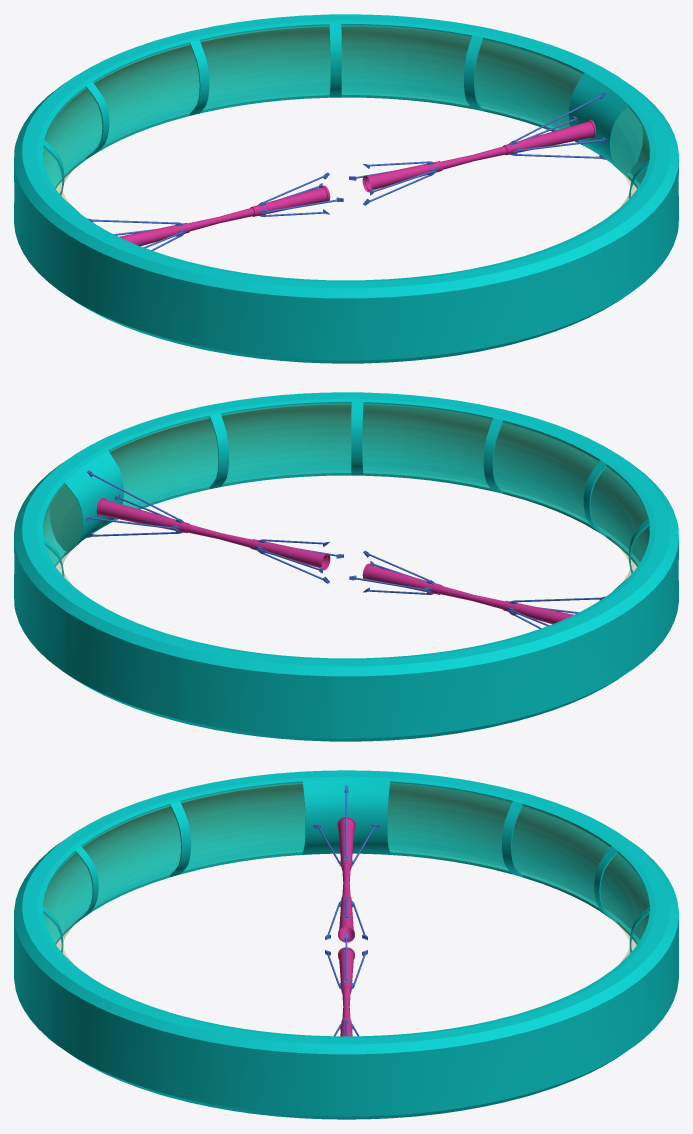
Rendered from station_ring_2-2k.dae.
3 renders of one model, top to bottom at view 1: azimuth 30°, elevation 25°; view 2: azimuth 150°, elevation 25°; view 3: azimuth 270°, elevation 25°, orthographic.
Visible parts, largest first — view 1: Cube_001, Cube_002, spoke, strut_proced_000, strut_proced_015; view 2: Cube_001, Cube_002, spoke, strut_proced_000, strut_proced_015; view 3: Cube_001, Cube_002, spoke, strut_proced_000.
Part boxes in pixels (box(x1,y1,x2,y2)): Cube_001: box(14, 14, 678, 363); Cube_002: box(43, 26, 649, 204); spoke: box(119, 120, 596, 246); strut_proced_000: box(87, 92, 606, 248); strut_proced_015: box(114, 116, 605, 250); Cube_001: box(14, 392, 678, 741); Cube_002: box(43, 404, 649, 582); spoke: box(96, 498, 573, 624); strut_proced_000: box(87, 470, 605, 613); strut_proced_015: box(86, 515, 549, 628); Cube_001: box(14, 770, 678, 1119); Cube_002: box(44, 783, 648, 960); spoke: box(337, 816, 355, 1036); strut_proced_000: box(313, 785, 367, 1036).
Size of the model in its own units: 4053 by 4054 by 506.
